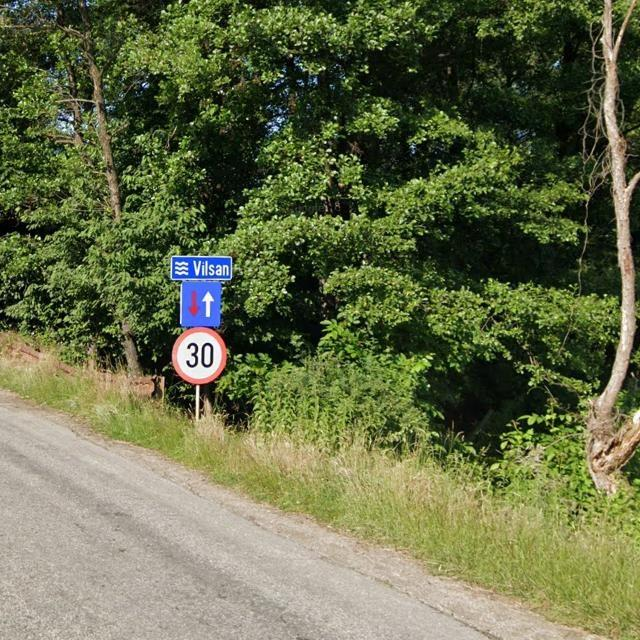forb_speed_over_30: (171, 327, 228, 385)
